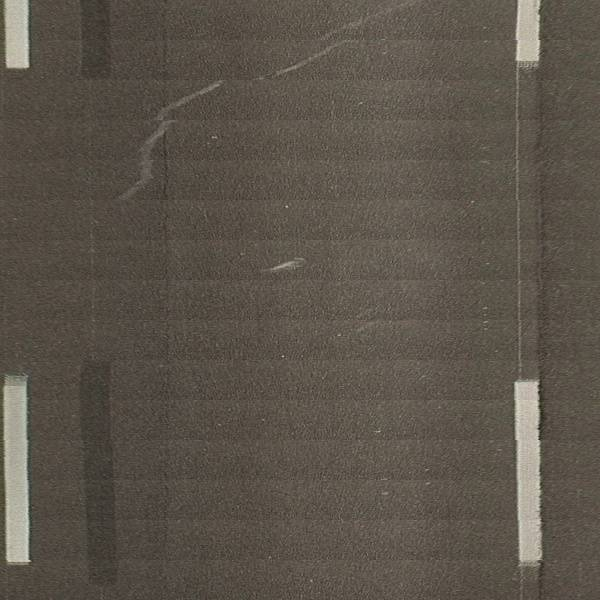road_damage: (113, 78, 227, 207), (532, 174, 552, 443)
